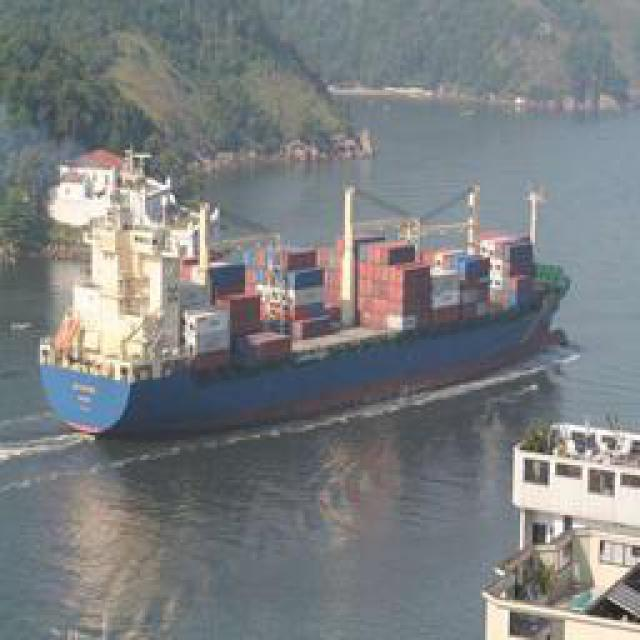Ship: (32, 156, 570, 444)
